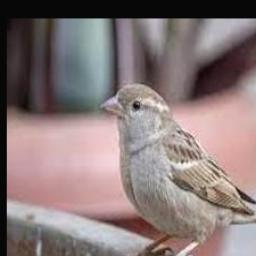Sparrow: (99, 83, 256, 256)
